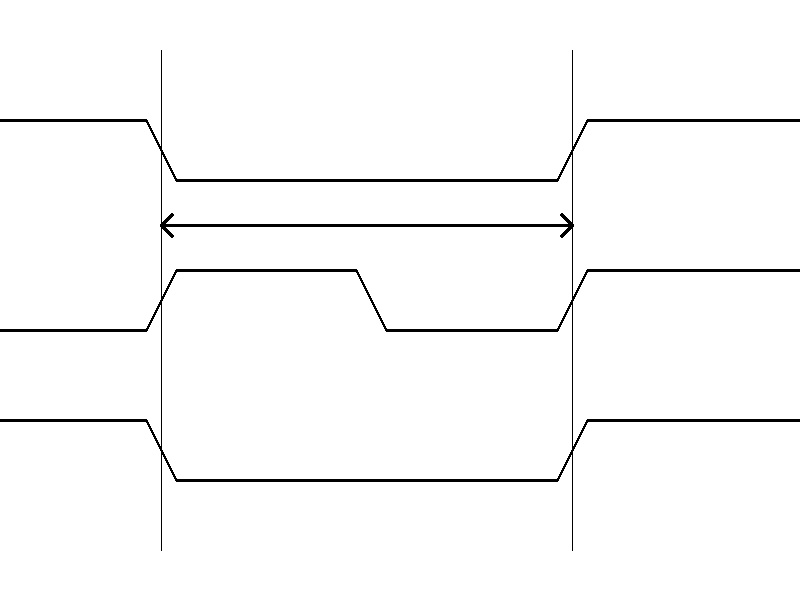double_arrow: (161, 210, 572, 240)
